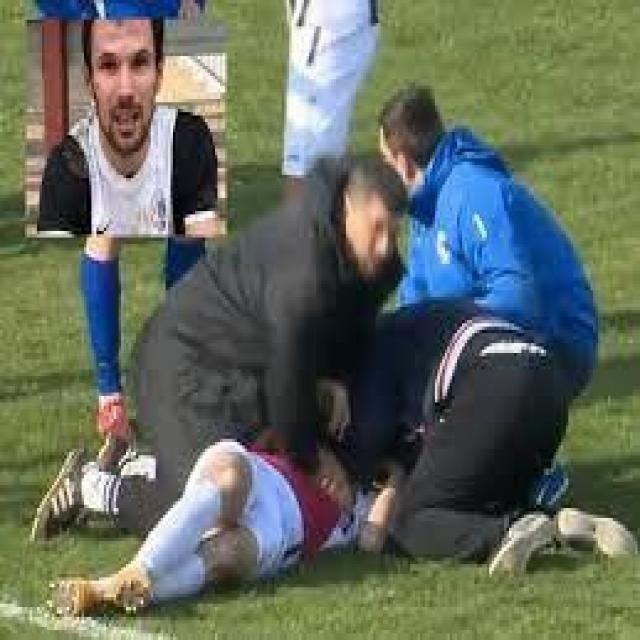fall: (27, 366, 400, 614)
nonfall: (27, 149, 404, 526), (383, 76, 632, 414)
